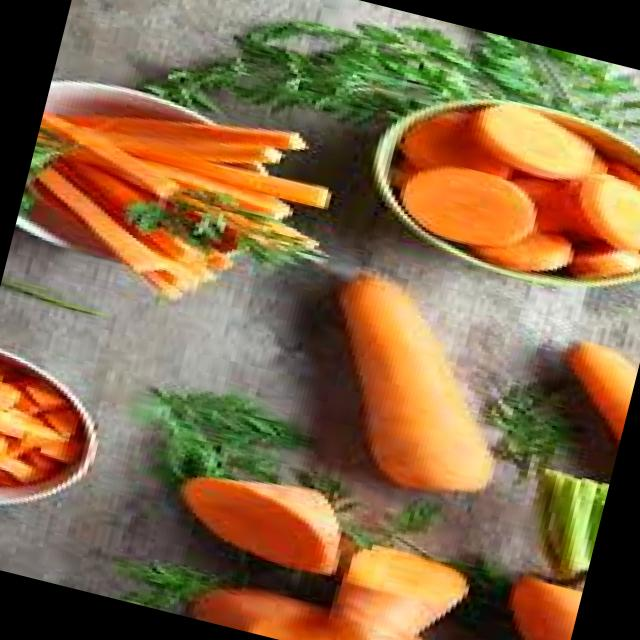Carrot: (11, 66, 332, 306), (292, 267, 546, 512), (424, 97, 640, 281), (149, 442, 372, 590), (314, 518, 493, 640), (170, 574, 445, 640), (0, 348, 88, 512), (536, 327, 640, 437), (485, 564, 584, 640)
